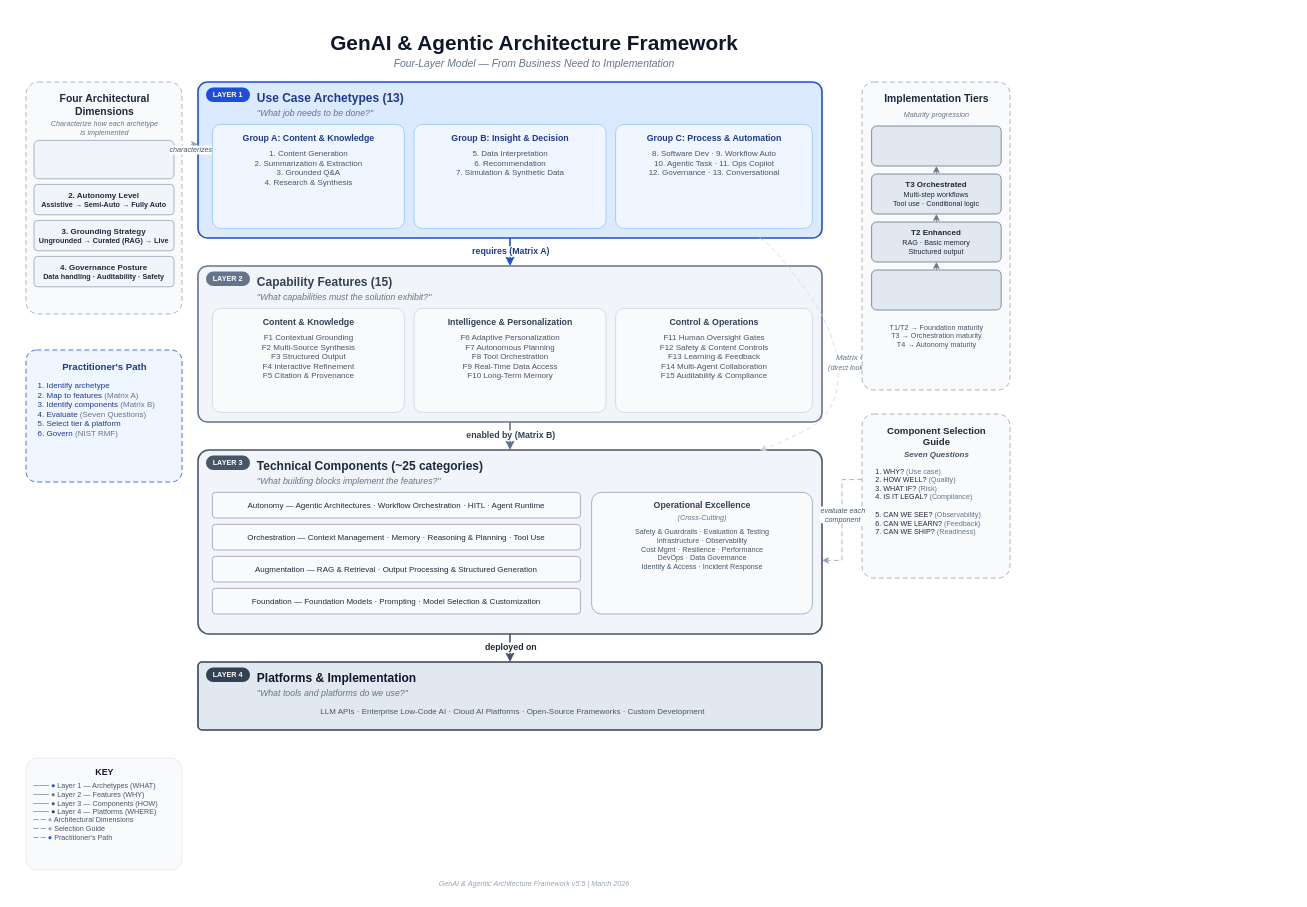
The diagram is 1307 pixels wide and 907 high, and some of its shapes have lost their labels. The centre of each missing label's shape, as x and y in pixels:
"1. Interaction Model One-shot · Conversational · Batch Proactive · API-driven" belongs at (x=103, y=159).
"T1 Basic Single LLM call Prompt engineering" belongs at (x=936, y=289).
"T4 Agentic Autonomous planning Multi-agent · Self-correction" belongs at (x=936, y=145).
